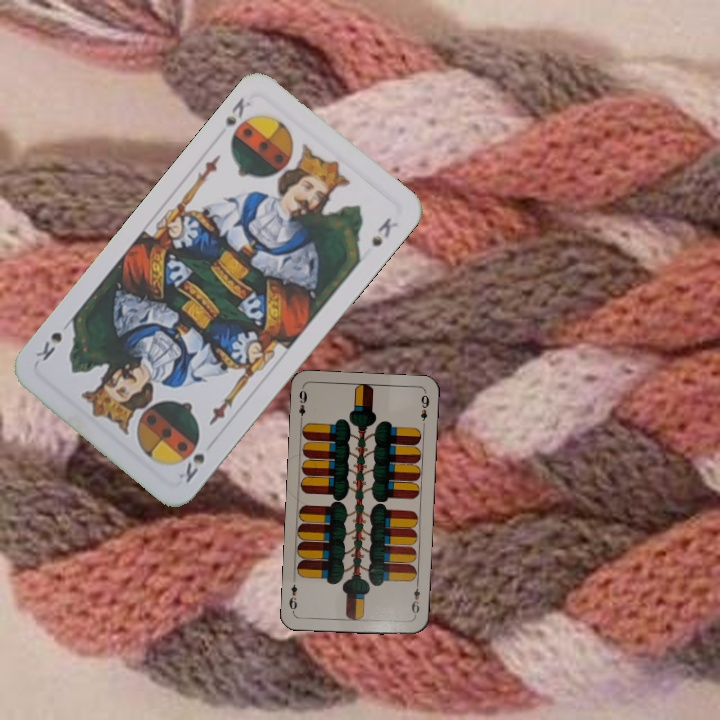E9: (407, 579, 423, 619), (295, 385, 309, 425)
SK: (174, 449, 208, 486), (221, 93, 254, 129)
